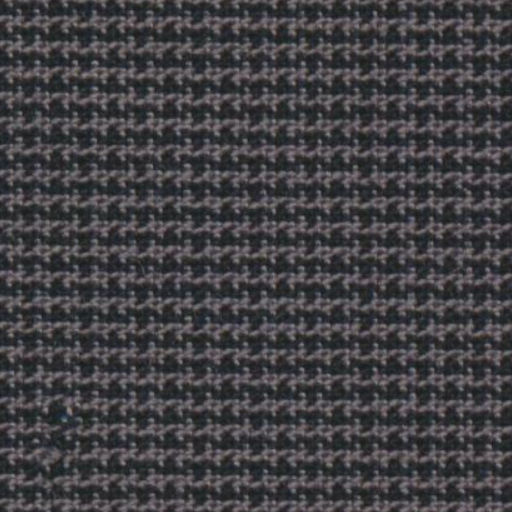PoDong: (20, 386, 97, 486)
